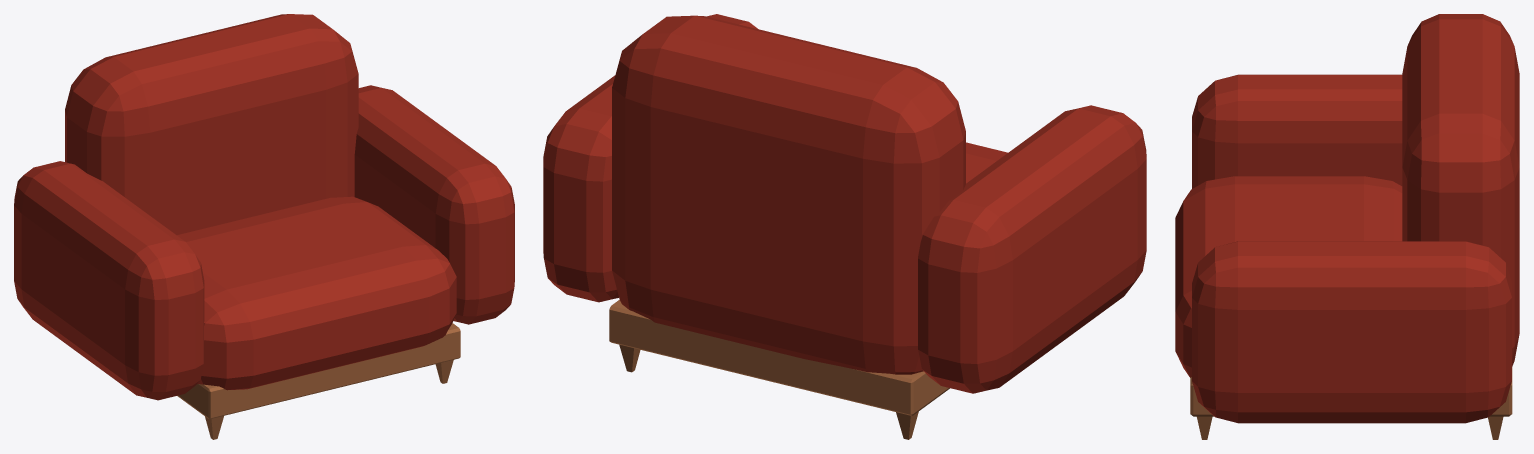
The model's file is sofa.gltf.
3 renders of one model, left to right at view 1: azimuth 30°, elevation 25°; view 2: azimuth 150°, elevation 25°; view 3: azimuth 270°, elevation 25°, orthographic. The views are drawn at different scales.
Parts seen in each view (by area): view 1: Sofa B; view 2: Sofa B; view 3: Sofa B.
Part boxes in pixels (left/top/right/bottom): Sofa B: left=14, top=14, right=514, bottom=439; Sofa B: left=543, top=14, right=1146, bottom=439; Sofa B: left=1175, top=14, right=1519, bottom=439.
Bounding box in the file's own units: 6.16 × 4.35 × 4.37.
